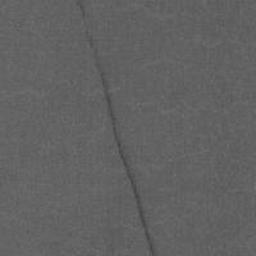Inclusion: (74, 0, 159, 256)
